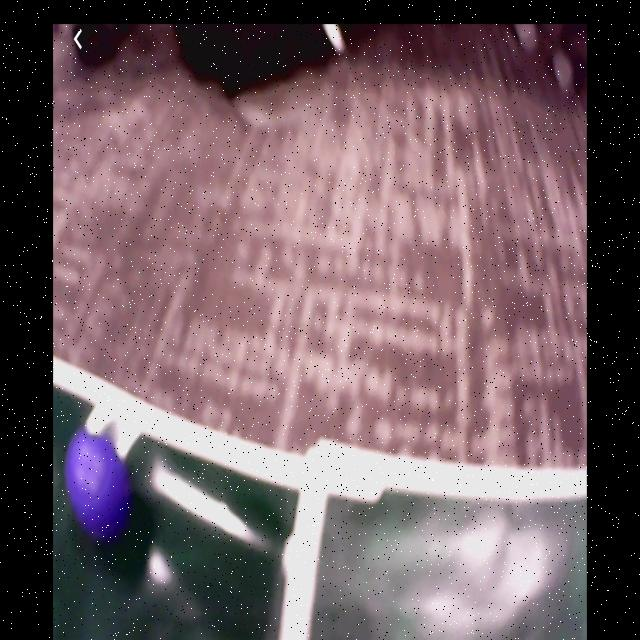ball: (65, 426, 135, 539)
